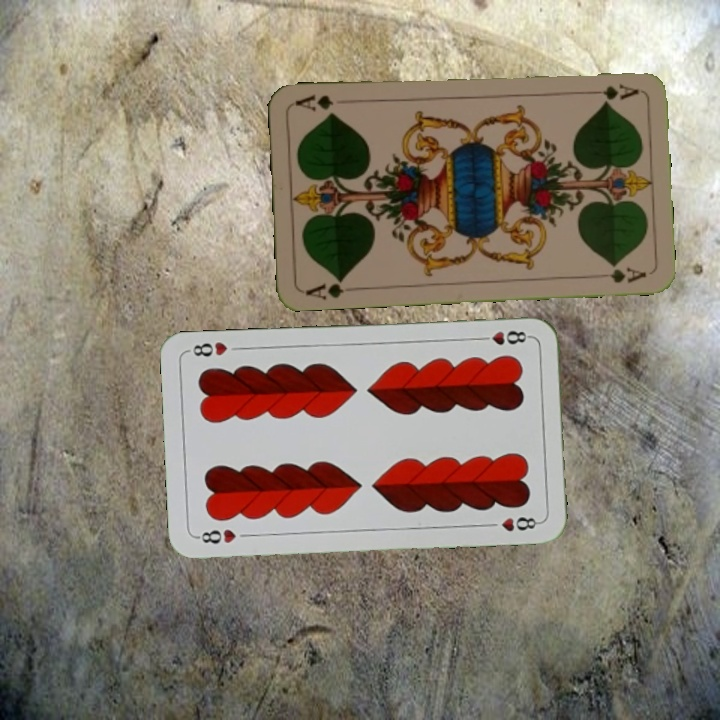GA: (301, 273, 348, 302), (582, 79, 641, 102)
H8: (474, 327, 533, 348), (193, 525, 239, 546)
